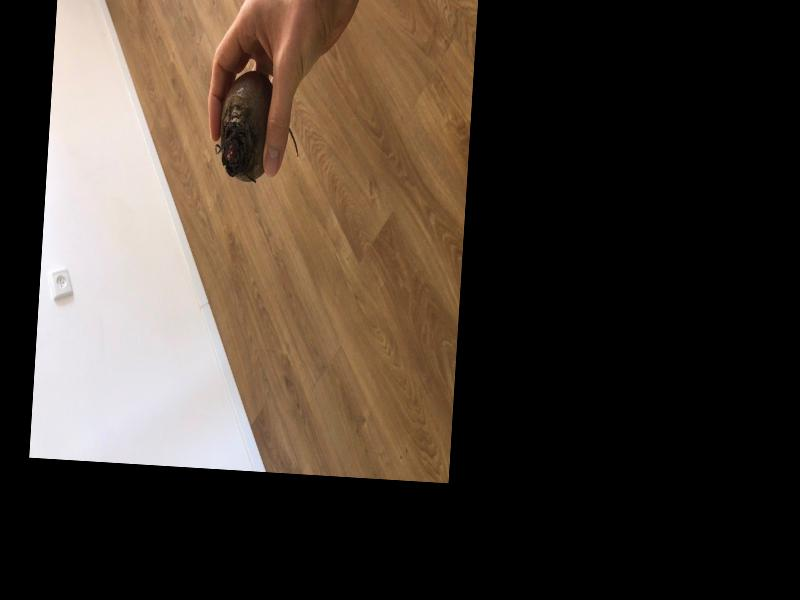Beet: (215, 70, 303, 185)
